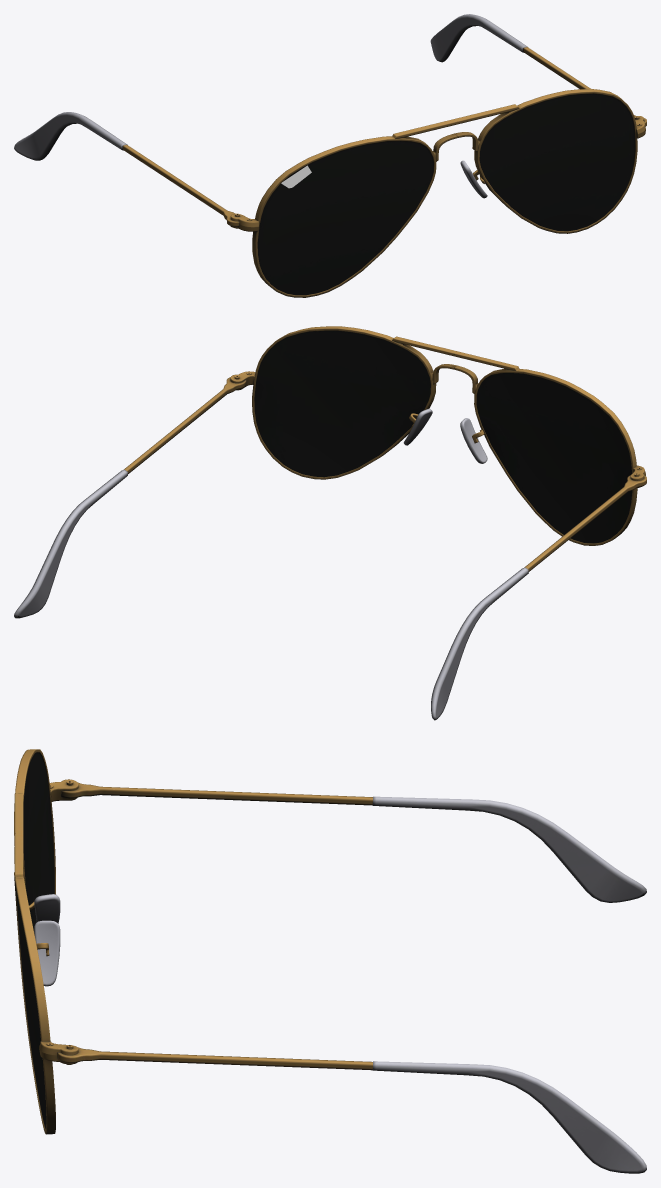
3 renders of one model, top to bottom at view 1: azimuth 30°, elevation 25°; view 2: azimuth 150°, elevation 25°; view 3: azimuth 270°, elevation 25°, orthographic. The views are drawn at different scales.
Parts seen in each view (by area): view 1: Glass001, Glass, Frame001, Frame, Arm_End001, Arm_End, Arm001, Arm; view 2: Glass, Glass001, Frame001, Frame, Arm_End, Arm_End001, Arm001, Arm, Nosepad001; view 3: Arm_End, Arm_End001, Frame, Glass001, Arm, Arm001, Glass, Frame001, Nosepad, Nosepad001.
Part boxes in pixels (x1=…): Glass001: x1=257, y1=141, x2=433, y2=295; Glass: x1=479, y1=93, x2=635, y2=231; Frame001: x1=230, y1=119, x2=457, y2=297; Frame: x1=454, y1=89, x2=645, y2=233; Arm_End001: x1=14, y1=112, x2=127, y2=160; Arm_End: x1=430, y1=14, x2=528, y2=62; Arm001: x1=123, y1=145, x2=239, y2=226; Arm: x1=523, y1=47, x2=646, y2=126; Glass: x1=254, y1=330, x2=430, y2=477; Glass001: x1=476, y1=373, x2=632, y2=543; Frame001: x1=454, y1=351, x2=645, y2=545; Frame: x1=230, y1=326, x2=456, y2=479; Arm_End: x1=14, y1=469, x2=127, y2=618; Arm_End001: x1=431, y1=567, x2=528, y2=720; Arm001: x1=524, y1=475, x2=646, y2=571; Arm: x1=123, y1=377, x2=246, y2=473; Nosepad001: x1=460, y1=418, x2=487, y2=463; Arm_End: x1=372, y1=1061, x2=646, y2=1173; Arm_End001: x1=372, y1=796, x2=646, y2=902; Frame: x1=14, y1=833, x2=78, y2=1134; Glass001: x1=23, y1=752, x2=54, y2=933; Arm: x1=57, y1=1047, x2=372, y2=1070; Arm001: x1=61, y1=782, x2=372, y2=805; Glass: x1=16, y1=890, x2=46, y2=1129; Frame001: x1=14, y1=749, x2=78, y2=910; Nosepad: x1=34, y1=920, x2=60, y2=986; Nosepad001: x1=34, y1=894, x2=60, y2=923.
Size of what is drawn, in the model's own units: 2.59 by 0.886 by 2.48.
Materials: 1 (1 with a texture image).
